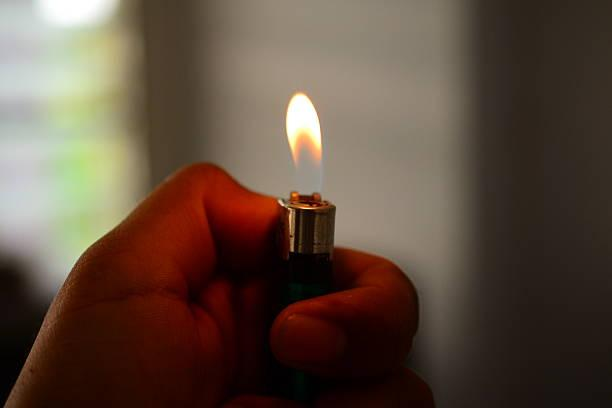Fire: (284, 91, 326, 173)
